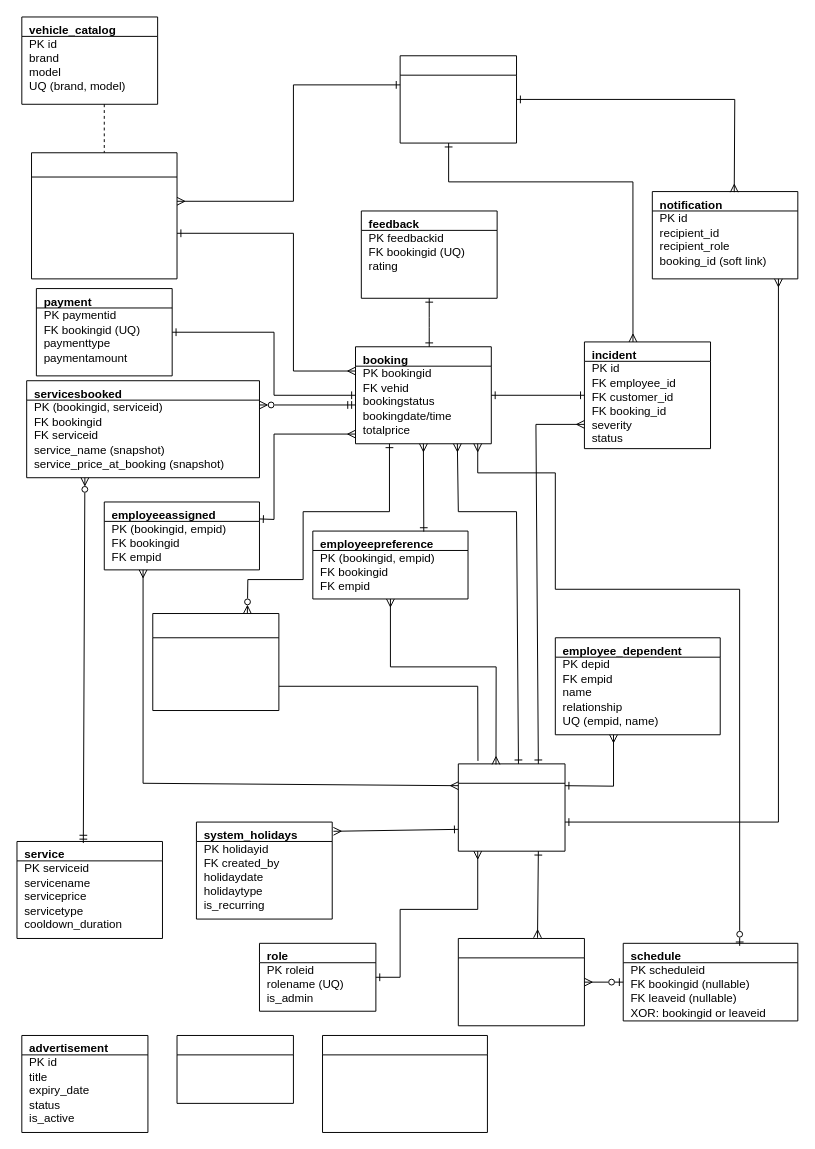
This 815x1149 diagram has some shape labels left out. Each missing label, with the centre of its shape:
booking_extras PK id FK booking_id FK added_by FK priced_by price: the point at 215,662
customer PK cusid cusemail (UQ) custel nic (UQ): the point at 458,99
employee PK empid FK roleid email (UQ) empnic (UQ): the point at 511,807
employeeleave PK leaveid FK empid leavestartdate leaveenddate: the point at 520,982
password_reset_token PK id email user_type token_hash expires_at: the point at 404,1083
sys_settings PK key value description: the point at 234,1069
vehicle PK id FK cusid vehplate vehbrand vehmodel UQ (cusid, vehplate): the point at 104,215
